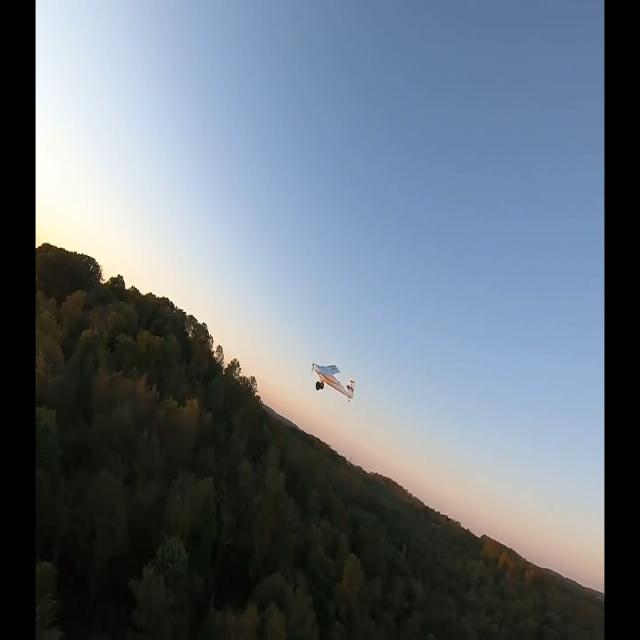iha: (310, 362, 355, 404)
